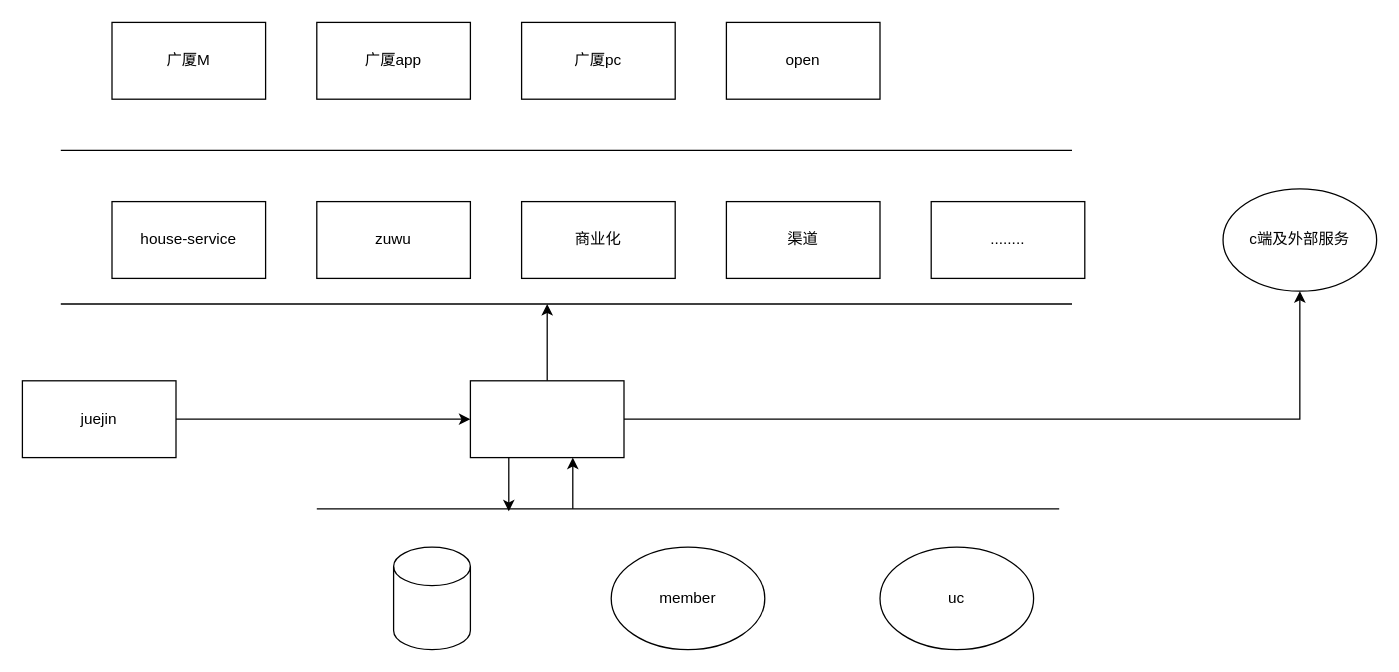
Image size: 1399x672. Some labels were removed from this diagram. The centre of each missing label's shape, as x and y in pixels:
"db" belongs at point 431,598.
"user" belongs at point 546,419.
